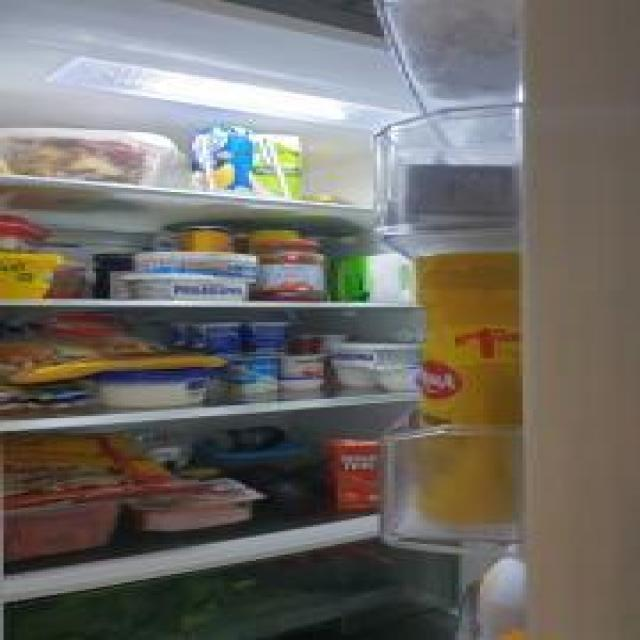cheese: (94, 371, 219, 408), (133, 273, 258, 305), (138, 250, 260, 280)
grated_cheese: (9, 326, 172, 394)
tomato_sauce: (326, 434, 382, 513)
tortillas: (0, 436, 178, 502)
yogurt: (228, 358, 278, 396)
